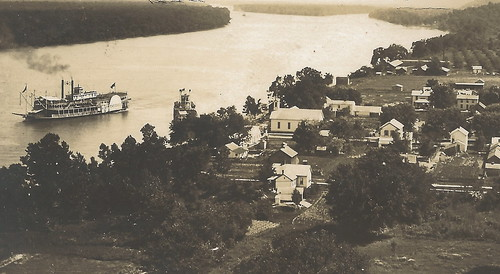boat: (12, 79, 136, 129)
building: (410, 85, 483, 112), (267, 158, 312, 201), (269, 103, 320, 134), (378, 120, 412, 158), (329, 97, 385, 118), (445, 124, 471, 154)
river: (1, 16, 403, 165)
